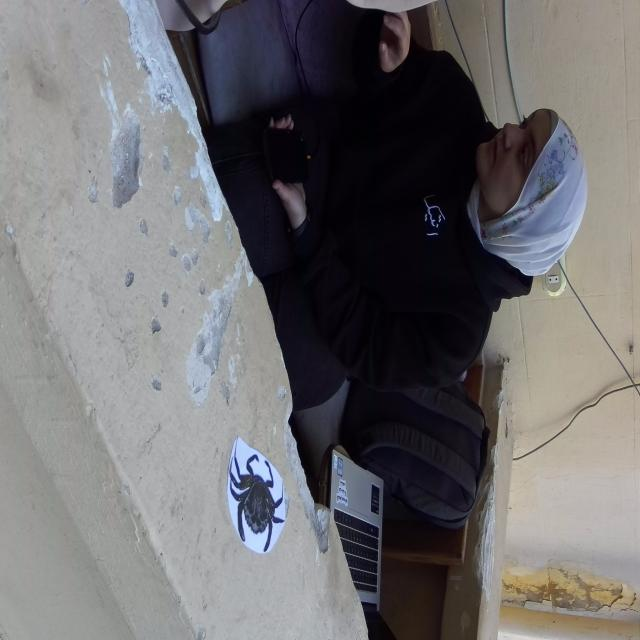European_Green_Crab: (217, 439, 294, 564)
